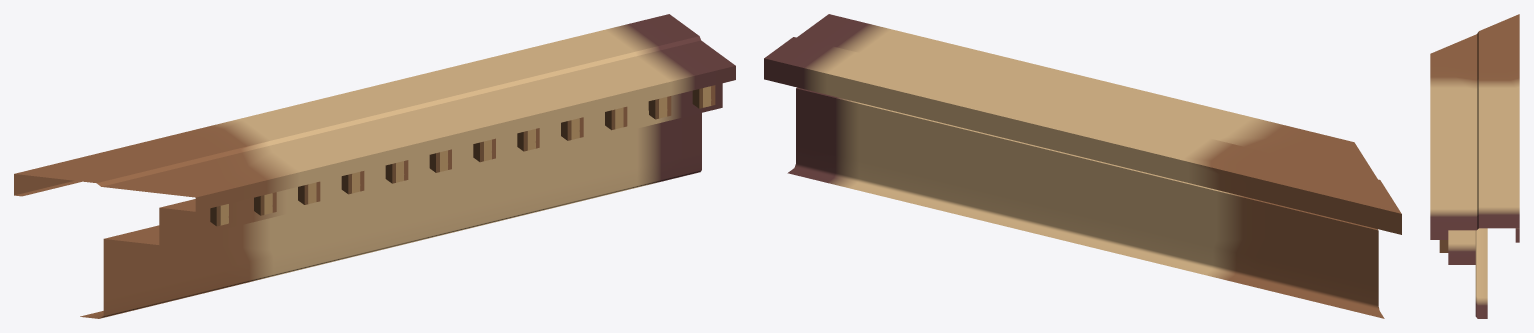
The model's file is DBK_Cornice_A_Full_Inside.fbx.
3 renders of one model, left to right at view 1: azimuth 30°, elevation 25°; view 2: azimuth 150°, elevation 25°; view 3: azimuth 270°, elevation 25°, orthographic. The views are drawn at different scales.
Parts seen in each view (by area): view 1: DBK_Cornice_A_Full_Inside; view 2: DBK_Cornice_A_Full_Inside; view 3: DBK_Cornice_A_Full_Inside.
Boxes of the visible parts, x1,y1,x2,y2 form: DBK_Cornice_A_Full_Inside: (14,14,735,318); DBK_Cornice_A_Full_Inside: (764,14,1401,318); DBK_Cornice_A_Full_Inside: (1430,14,1519,318).
Bounding box in the file's own units: 320 × 63.25 × 56.29.
